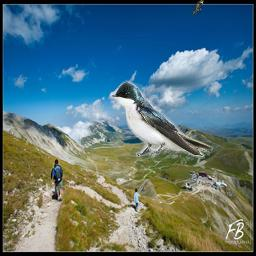Cuckoo: (191, 0, 204, 15)
Swallow: (110, 80, 213, 159)
